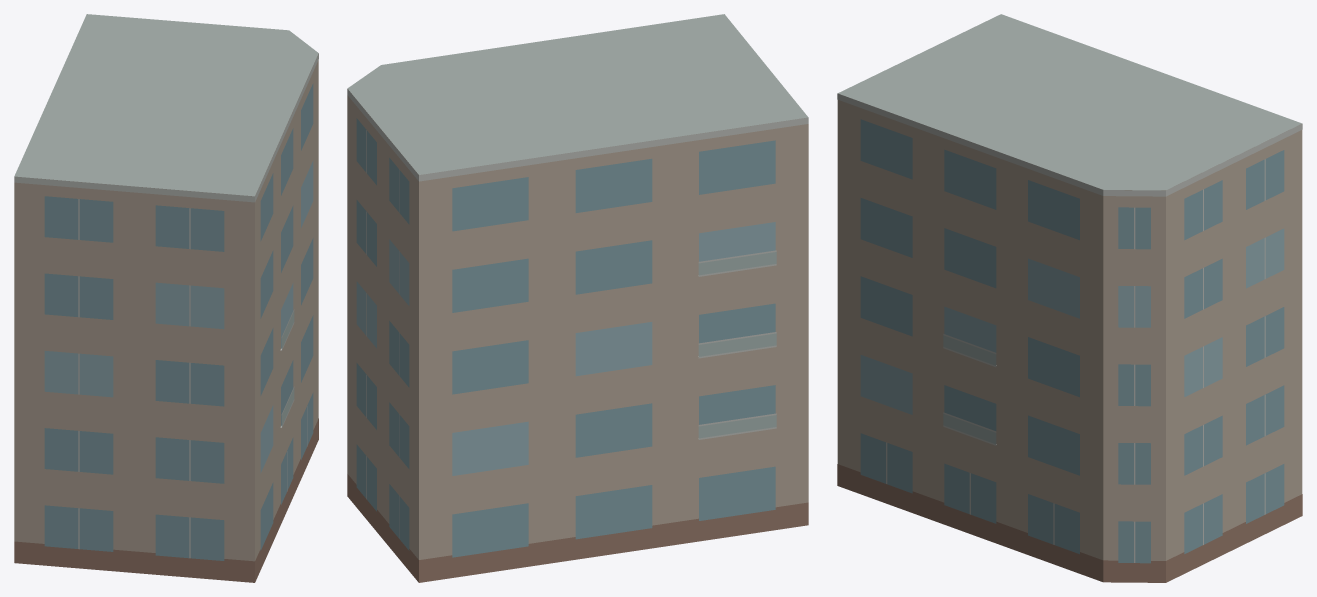
Rendered from survey-upis-32526432.glb.
3 renders of one model, left to right at view 1: azimuth 30°, elevation 25°; view 2: azimuth 150°, elevation 25°; view 3: azimuth 270°, elevation 25°, orthographic. The views are drawn at different scales.
Visible parts, largest first — view 1: survey-upis-32526432.tmp; view 2: survey-upis-32526432.tmp; view 3: survey-upis-32526432.tmp.
Boxes of the visible parts, bbox=[...] form: survey-upis-32526432.tmp: bbox=[14, 14, 318, 582]; survey-upis-32526432.tmp: bbox=[347, 14, 808, 582]; survey-upis-32526432.tmp: bbox=[837, 14, 1302, 582].
Bounding box in the file's own units: 14.95 × 15.5 × 16.65.
